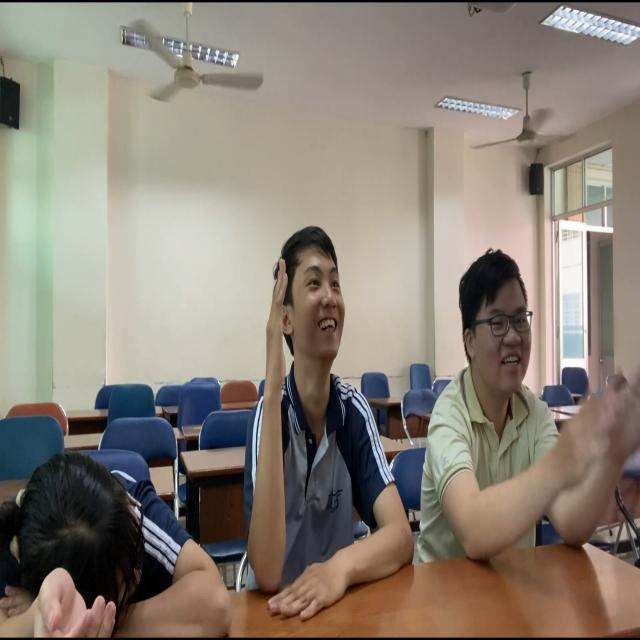raise_hand: (249, 224, 408, 635)
sleep: (1, 448, 242, 640)
